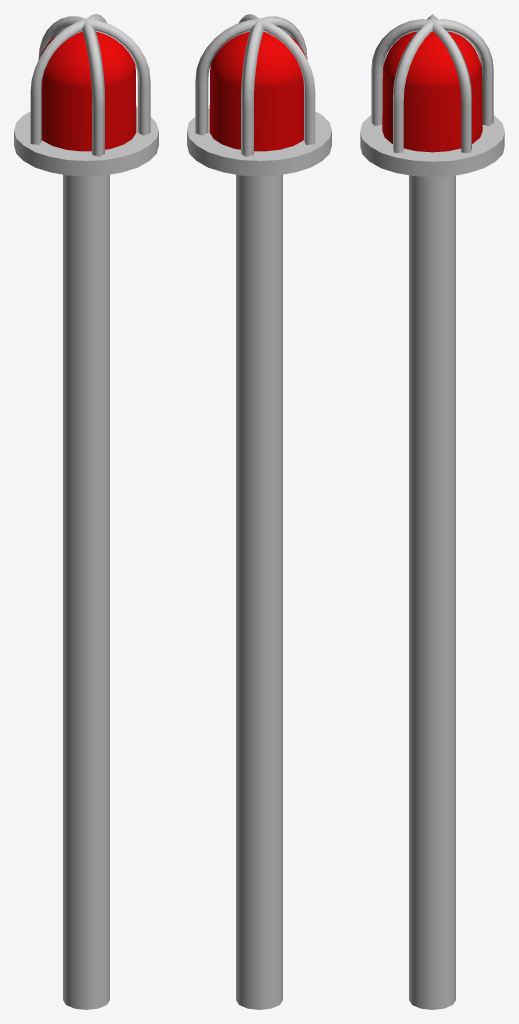
Rendered from SM_WarningLight.fbx.
The picture shows the model from 3 angles, left to right: view 1: azimuth 30°, elevation 25°; view 2: azimuth 150°, elevation 25°; view 3: azimuth 270°, elevation 25°; orthographic projection.
Parts seen in each view (by area): view 1: WarningLight; view 2: WarningLight; view 3: WarningLight.
Part boxes in pixels (x1,y1,x2,y2): WarningLight: (14,14,158,1009); WarningLight: (187,14,331,1009); WarningLight: (360,14,504,1009).
Bounding box in the file's own units: 184 × 1379 × 184.
